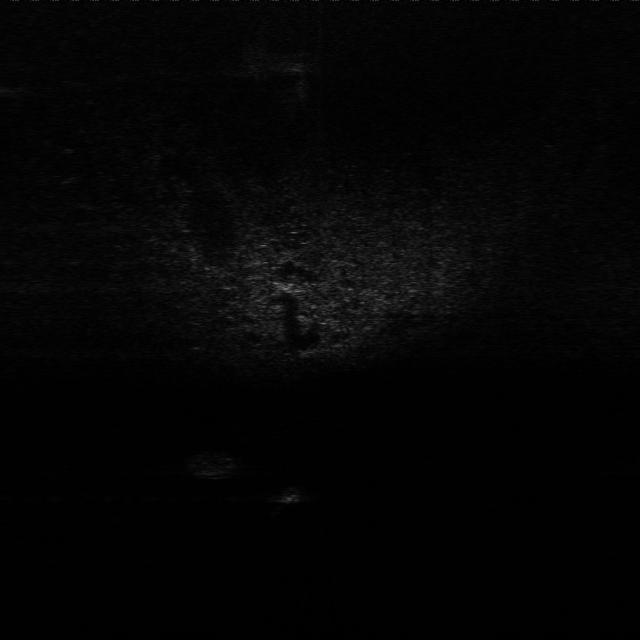circle cage: (186, 445, 243, 483)
cylinder: (274, 481, 304, 506)
